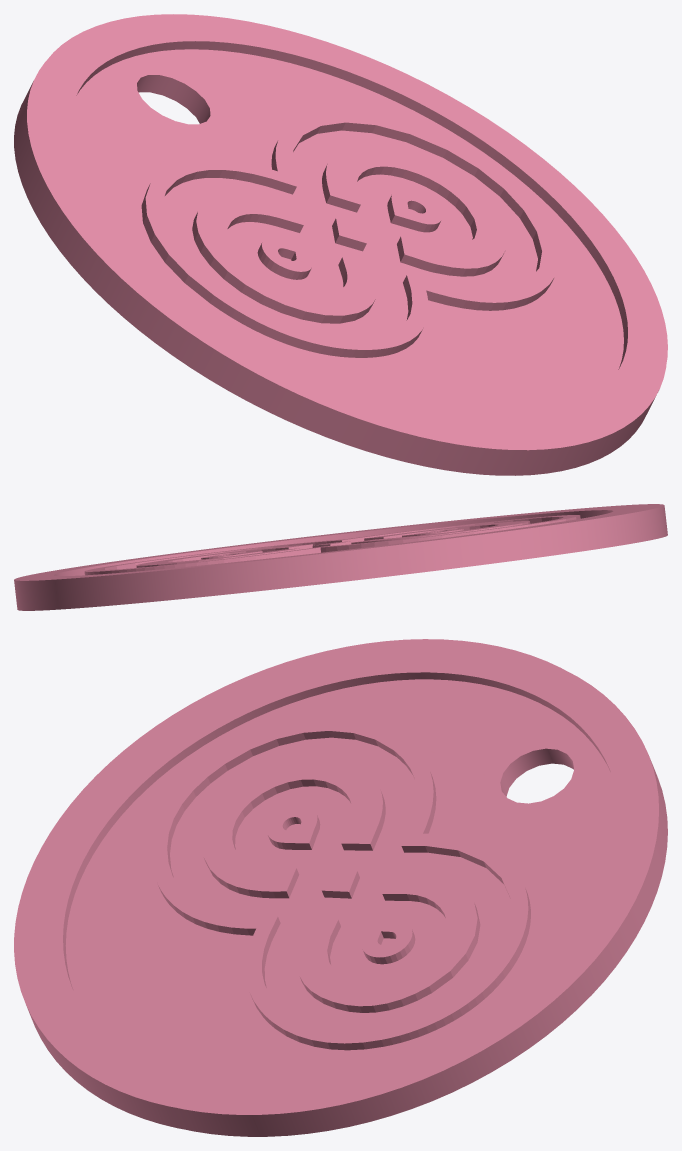
Rendered from krftens_bekmpelse_trolley_coin.glb.
3 views of the same model, one above another, from view 1: azimuth 30°, elevation 25°; view 2: azimuth 150°, elevation 25°; view 3: azimuth 270°, elevation 25° (orthographic). The views are drawn at different scales.
Visible parts, largest first — view 1: node_id4_1; view 2: node_id4_1; view 3: node_id4_1.
Part boxes in pixels (x1,y1,x2,y2): node_id4_1: (14, 14, 667, 475); node_id4_1: (14, 504, 667, 610); node_id4_1: (14, 639, 667, 1136).
Bounding box in the file's own units: 0.4945 × 0.2289 × 0.4967.
Materials: 1 (1 with a texture image).
